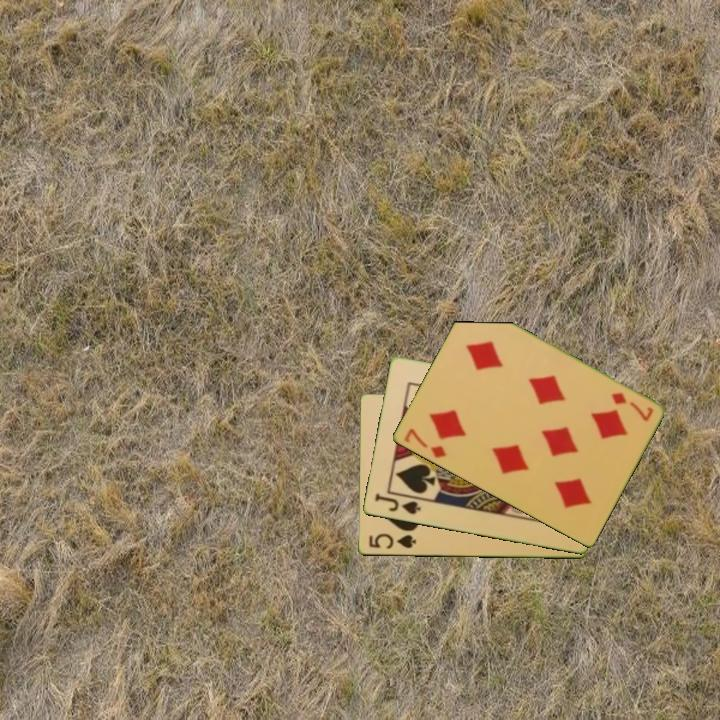5s: (365, 530, 418, 552)
7d: (400, 425, 449, 461), (607, 389, 656, 424)
Js: (371, 490, 423, 518)
